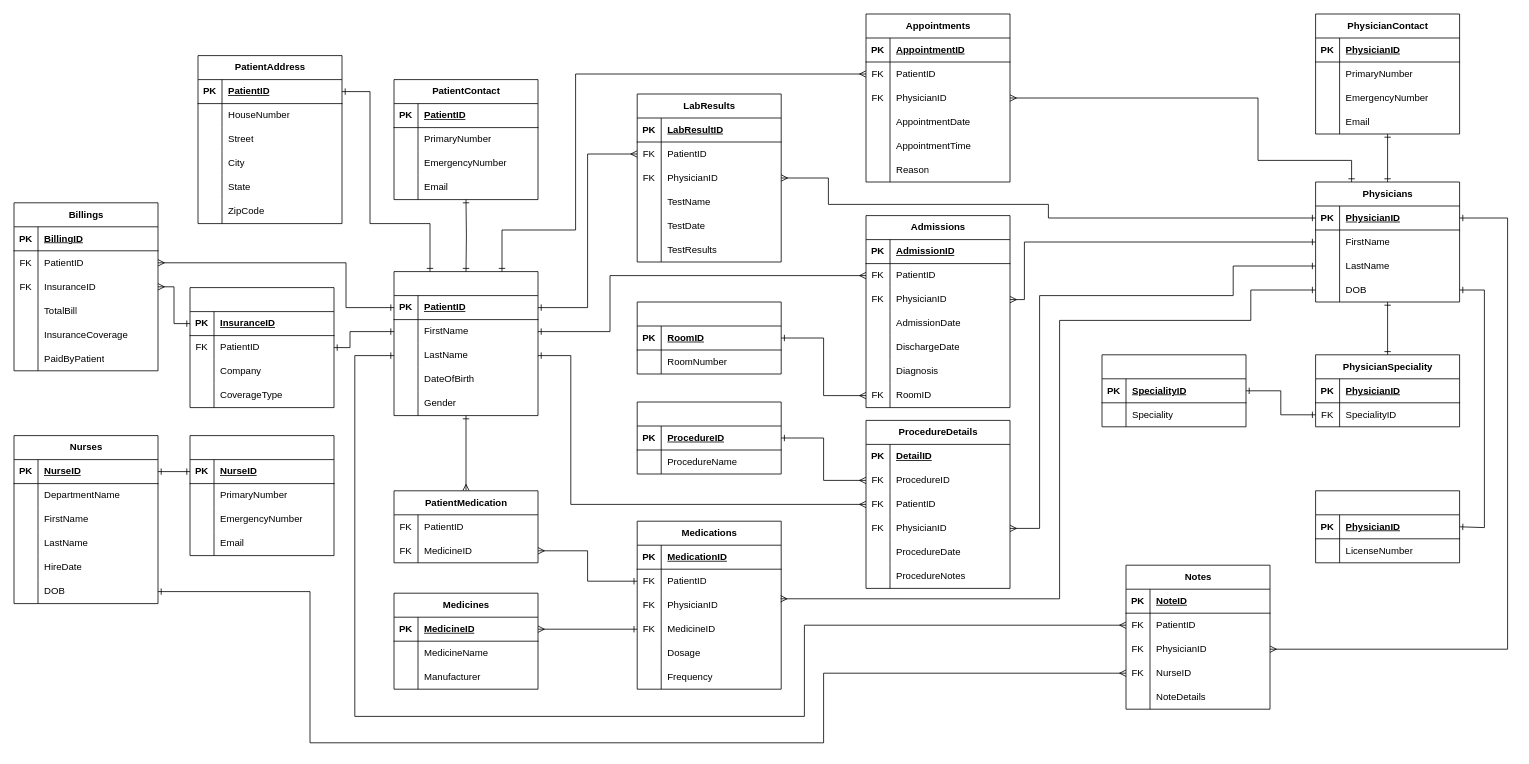
Some shapes in this 1529 by 764 pixel diagram are drawn without their labels. Here are the shapes that lost their labels. From the top down, the box of each, then its label:
(189, 287, 334, 408): Insurances
(393, 271, 538, 416): Patients
(636, 301, 781, 374): Rooms
(1101, 354, 1246, 427): Specialities
(636, 401, 781, 474): Procedures
(189, 435, 334, 556): NurseContact
(1315, 490, 1460, 563): PhysicianLicense
